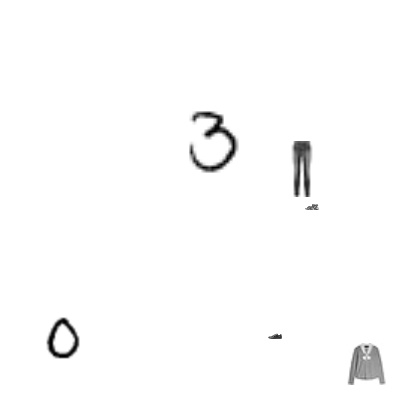0: (33, 310, 89, 366)
3: (172, 97, 256, 181)
Pullover: (345, 343, 387, 385)
Sandal: (305, 200, 319, 214)
Sneaker: (268, 329, 282, 343)
Trouser: (274, 141, 330, 197)
